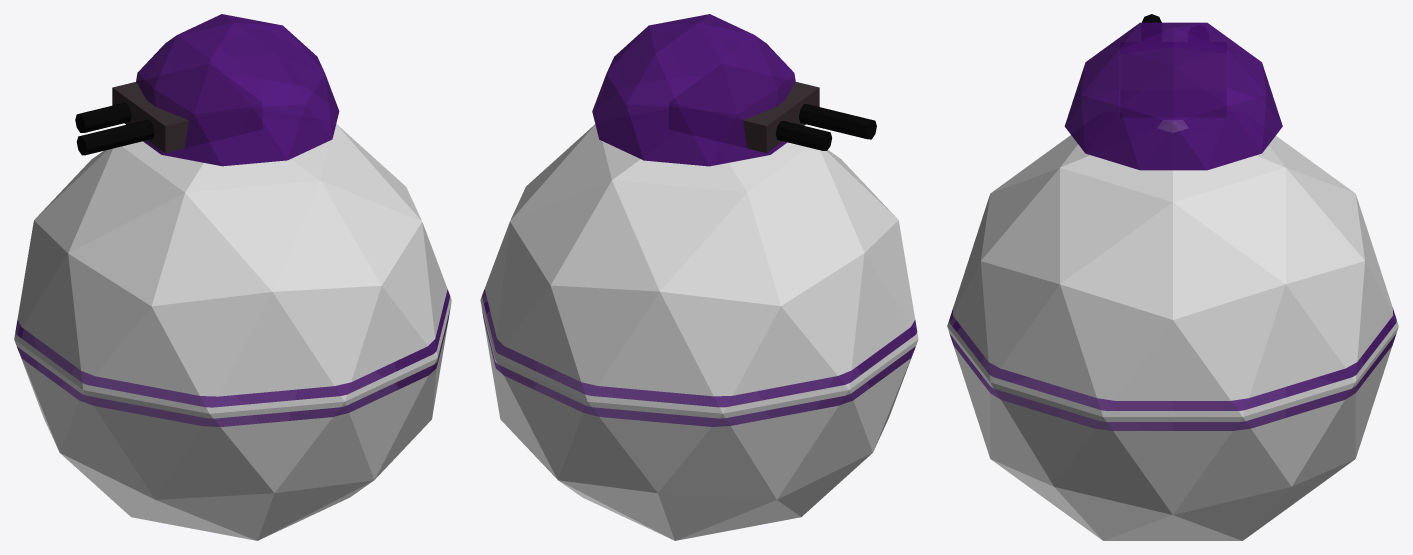
3 renders of one model, left to right at view 1: azimuth 30°, elevation 25°; view 2: azimuth 150°, elevation 25°; view 3: azimuth 270°, elevation 25°, orthographic.
Visible parts, largest first — view 1: Icosphere.006, Icosphere.004, Cube.002, Cylinder.005, Cylinder.004; view 2: Icosphere.006, Icosphere.004, Cube.002, Cylinder.005, Cylinder.004; view 3: Icosphere.006, Icosphere.004, Cube.002.
Boxes of the visible parts, bbox=[...] form: Icosphere.006: bbox=[14, 124, 451, 540]; Icosphere.004: bbox=[136, 14, 339, 166]; Cube.002: bbox=[112, 64, 261, 152]; Cylinder.005: bbox=[76, 120, 154, 155]; Cylinder.004: bbox=[75, 103, 131, 132]; Icosphere.006: bbox=[480, 124, 918, 540]; Icosphere.004: bbox=[592, 14, 795, 166]; Cube.002: bbox=[669, 64, 819, 153]; Cylinder.005: bbox=[798, 104, 876, 139]; Cylinder.004: bbox=[775, 121, 831, 150]; Icosphere.006: bbox=[947, 120, 1398, 540]; Icosphere.004: bbox=[1064, 22, 1282, 170]; Cube.002: bbox=[1121, 48, 1225, 116].
Size of the model in its own units: 190 by 246 by 200.
